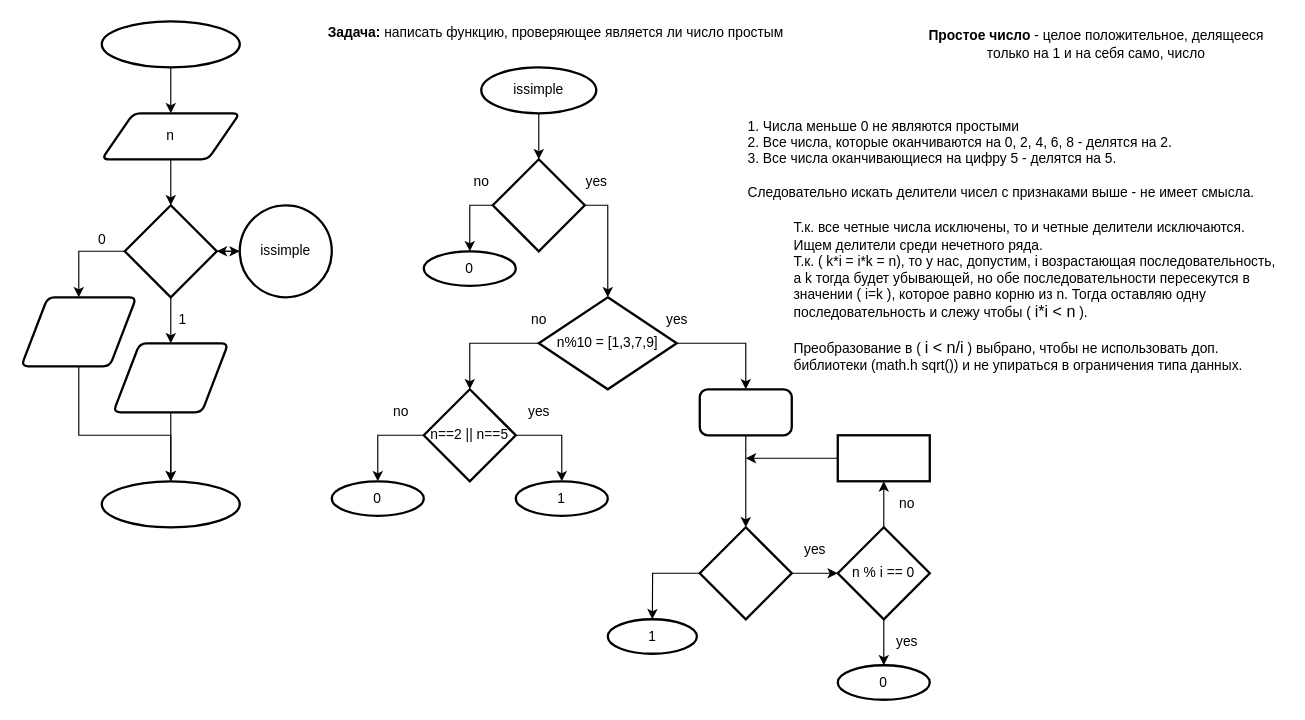
The diagram is 1305 pixels wide and 720 high, and some of its shapes have lost their labels. Here are the shapes that lost their labels. From the top down, the centre of each, then its label:
the point at 538,205: n>0
the point at 78,331: Integer
the point at 170,377: Simple
the point at 745,412: i = 3
the point at 883,458: i += 2
the point at 745,573: i < n / i
